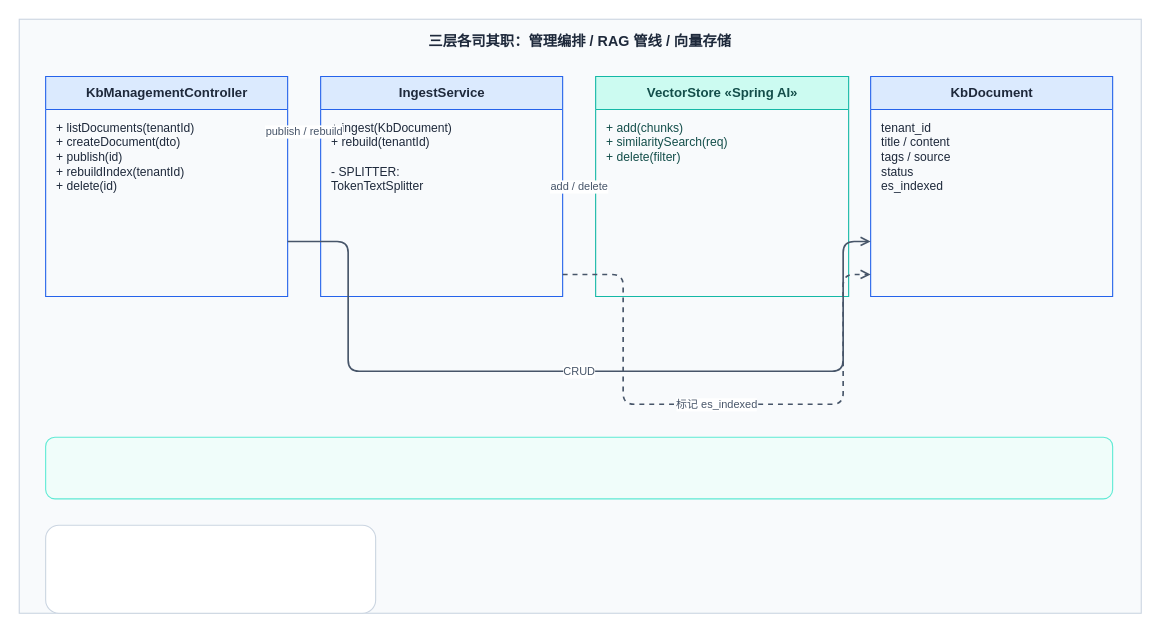
Image size: 1161x633. Some labels were removed from this diagram. Each missing label, with the centre of its shape:
实线 = 调用 / 依赖 虚线 = 标记/反向回写 蓝 = 业务层（编排/管线） 青 = Spring AI 抽象层: (210,568)
换向量库（如 Milvus / Qdrant）只动 VectorStore 注入层，上面两层不动 — Spring AI 抽象层换来的解耦红利: (579,467)
